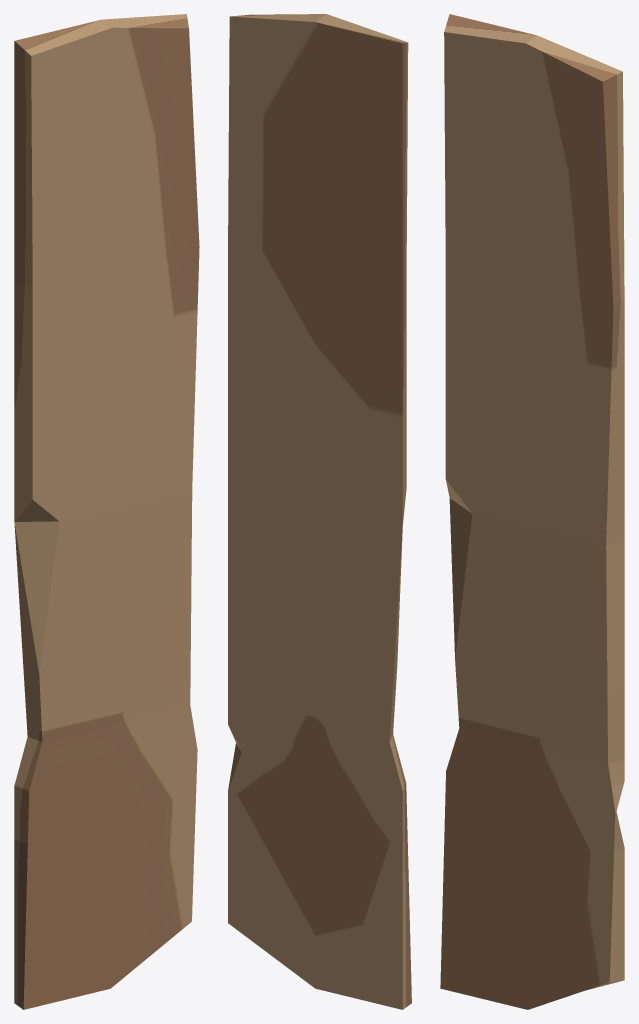
The model's file is SM_Plywood_Board_C.fbx.
3 renders of one model, left to right at view 1: azimuth 30°, elevation 25°; view 2: azimuth 150°, elevation 25°; view 3: azimuth 330°, elevation 25°, orthographic.
Parts seen in each view (by area): view 1: SM_Plywood_Board_C; view 2: SM_Plywood_Board_C; view 3: SM_Plywood_Board_C.
Part boxes in pixels (<box>): SM_Plywood_Board_C: <box>14,14,199,1009</box>; SM_Plywood_Board_C: <box>228,14,411,1009</box>; SM_Plywood_Board_C: <box>440,14,624,1009</box>.
Size of the model in its own units: 37.84 by 200 by 4.18.
